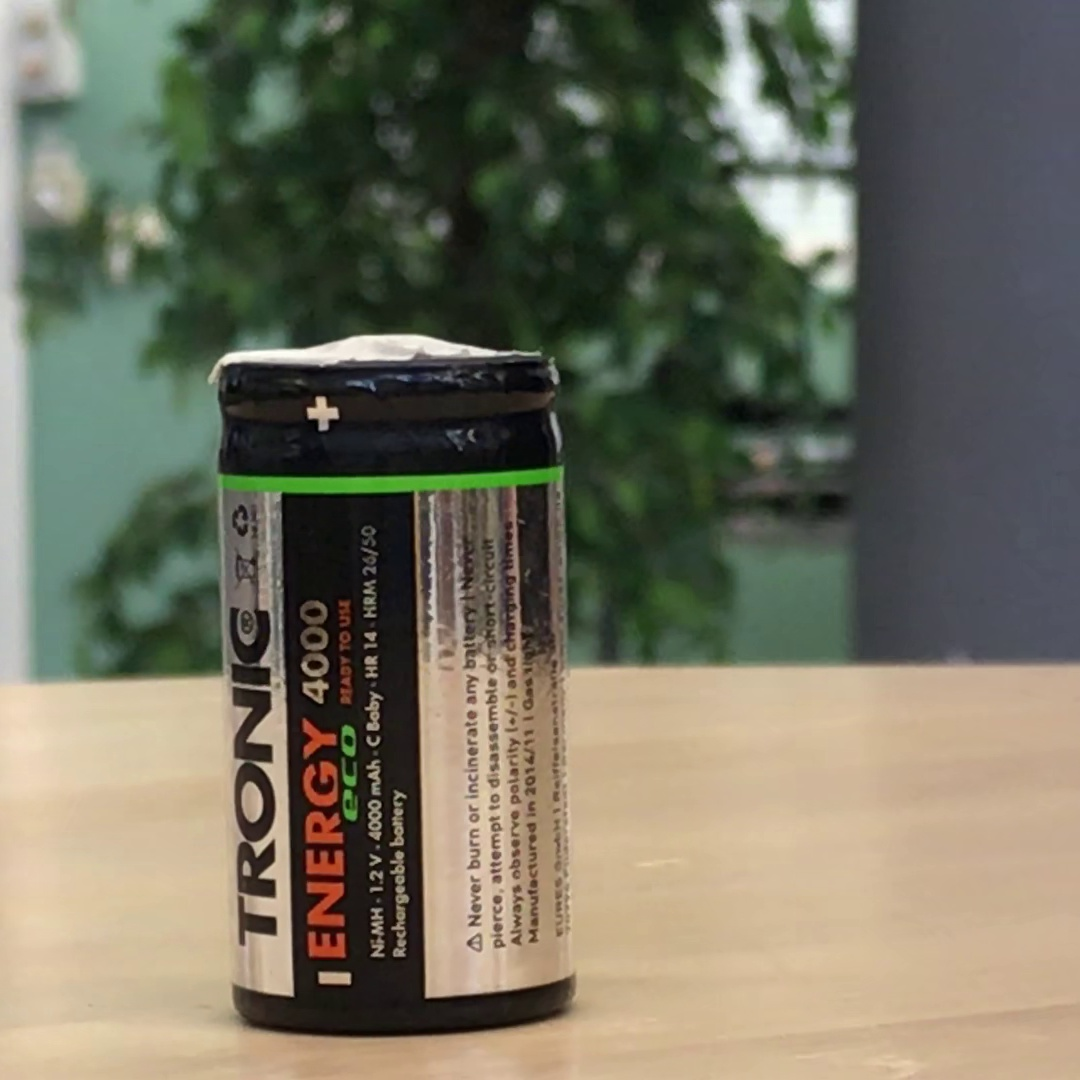keyword: (360, 845, 392, 901), (362, 911, 394, 966)
